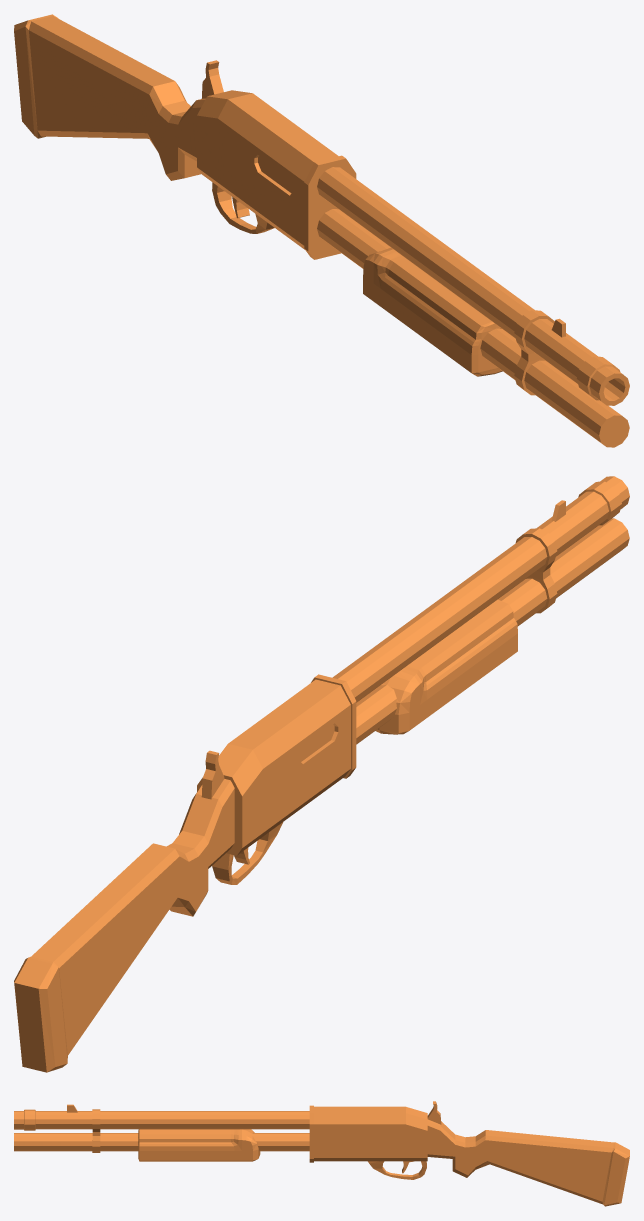
Rendered from wep_shotgun_01.glb.
3 renders of one model, top to bottom at view 1: azimuth 30°, elevation 25°; view 2: azimuth 150°, elevation 25°; view 3: azimuth 270°, elevation 25°, orthographic. The views are drawn at different scales.
Visible parts, largest first — view 1: _tmp_shotgun.obj; view 2: _tmp_shotgun.obj; view 3: _tmp_shotgun.obj.
Part boxes in pixels (box(x1,y1,x2,y2)): _tmp_shotgun.obj: box(14, 14, 629, 447); _tmp_shotgun.obj: box(14, 476, 629, 1072); _tmp_shotgun.obj: box(14, 1101, 629, 1206).
Bounding box in the file's own units: 0.0425 × 0.1627 × 0.9.
